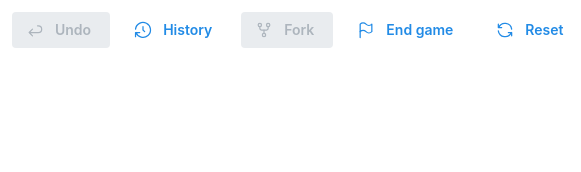
it: GameControls › state history menu › indicates that no snapshots exist
Click the button "History" at (176, 30), box 120,12 -> 231,48
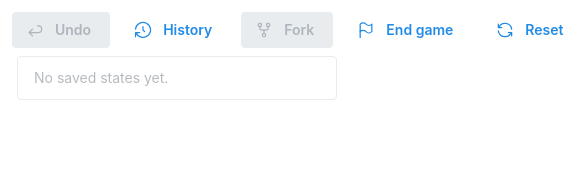
Now the text "No saved states yet." is shown, box 34,69 -> 168,86
